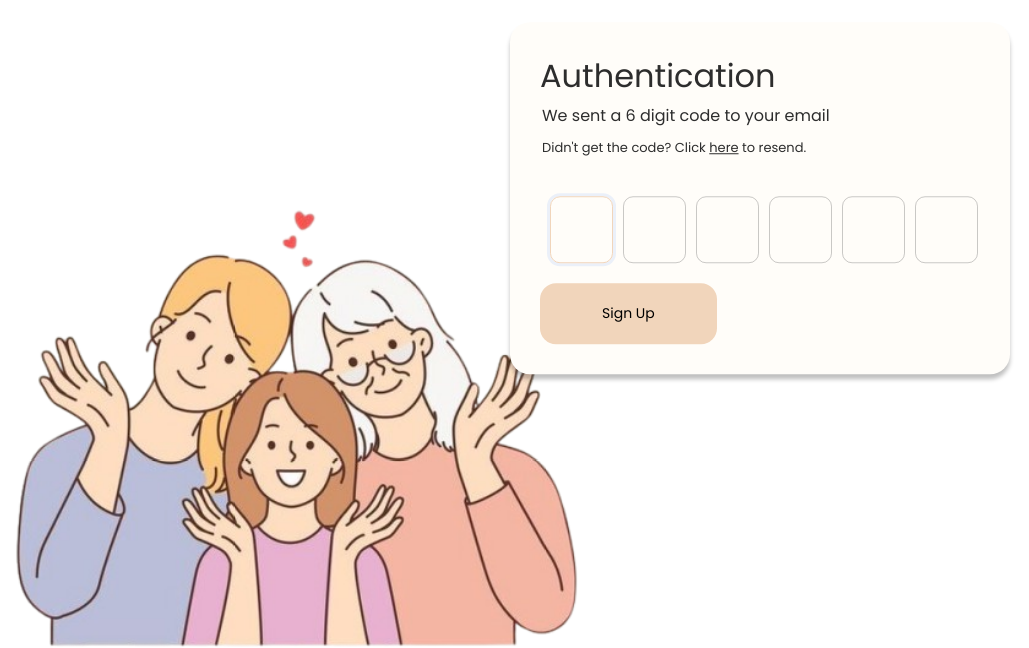
Scenario: Authentication component › displays error message when verification fails
In the 1st field: [582, 229] box [550,196,613,263], type "1"
In the 2nd field: [654, 229] box [623,196,686,263], type "2"
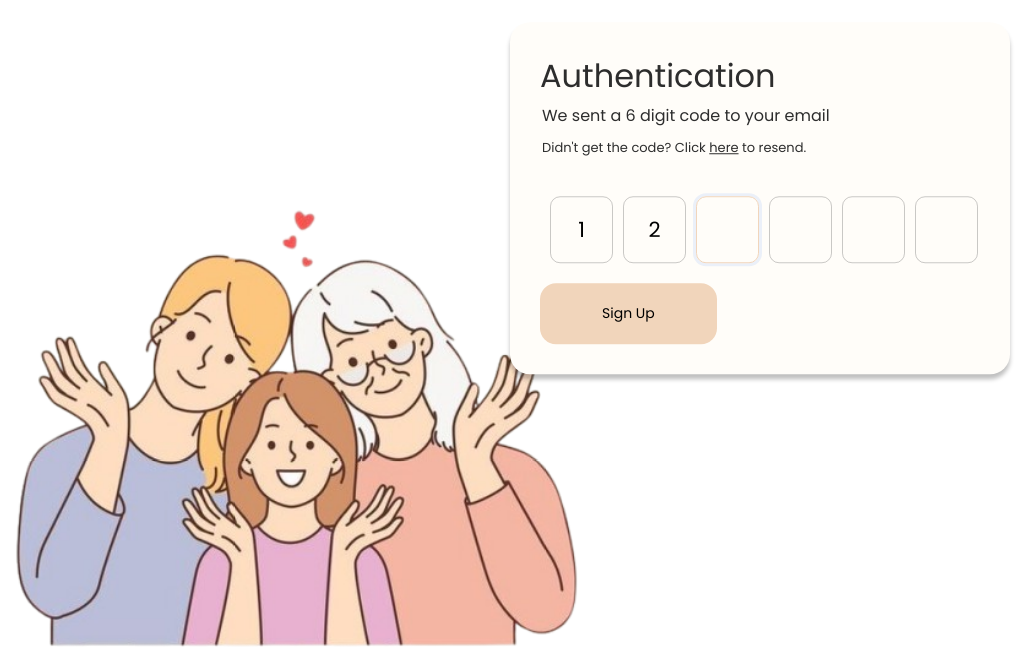
In the 3rd field: [728, 229] box [696,196,759,263], type "3"
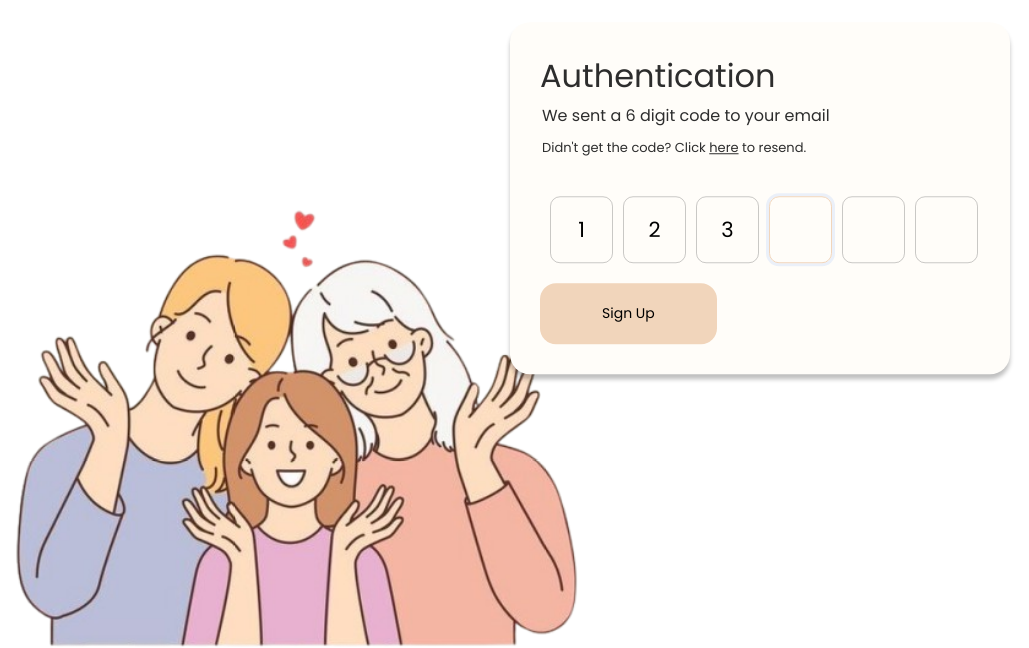
In the 4th field: [800, 229] box [769,196,832,263], type "4"
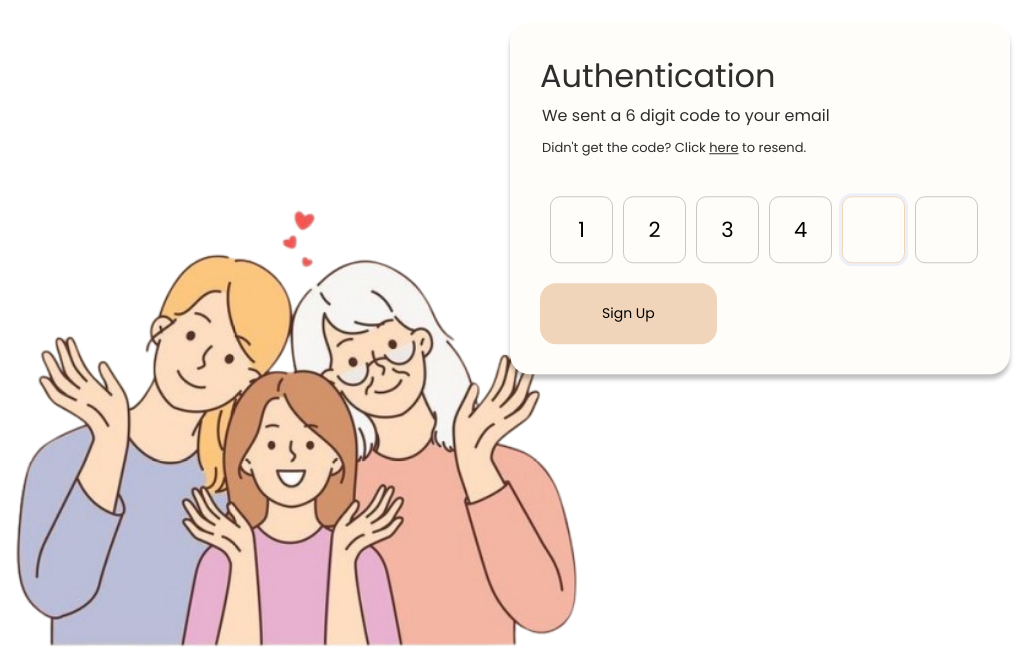
In the 5th field: [874, 229] box [842,196,905,263], type "5"
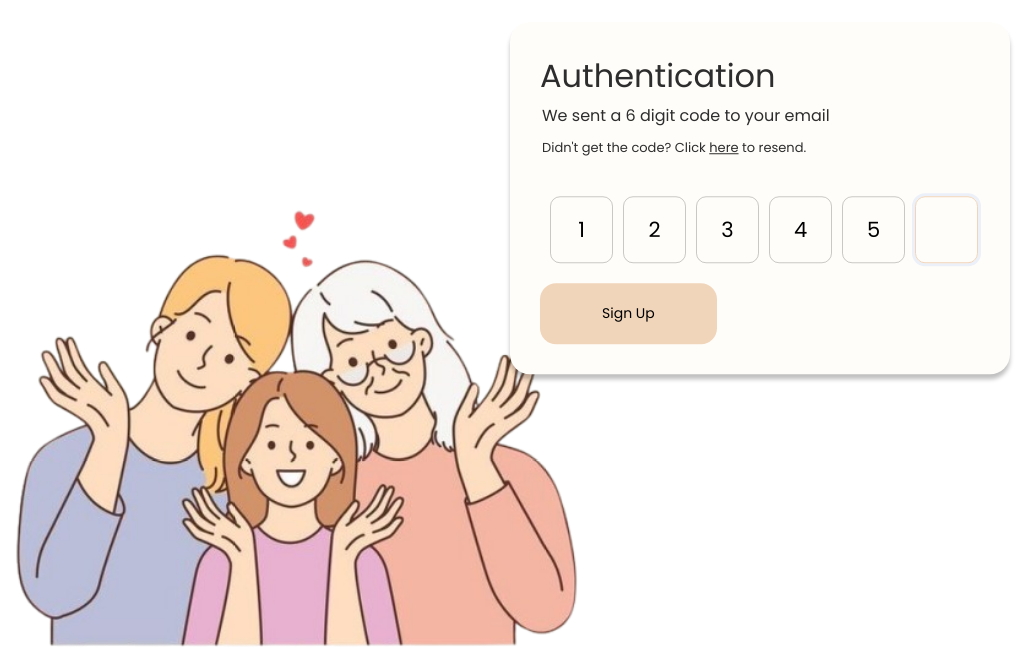
In the 6th field: [946, 229] box [915,196,978,263], type "6"
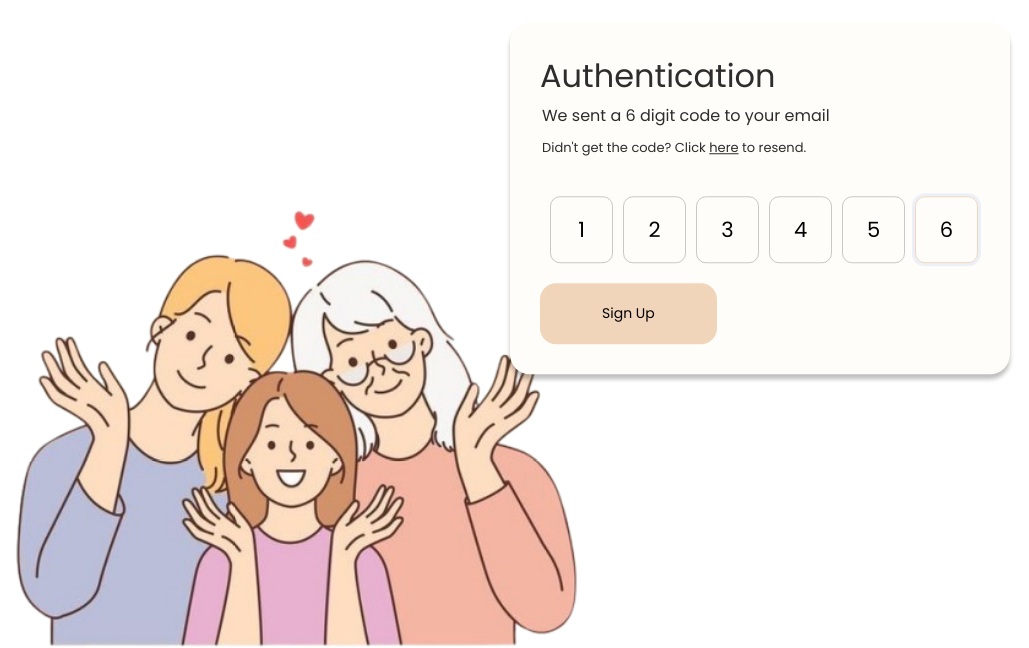
Click the button "Sign Up": [628, 313] box [540,283,717,344]
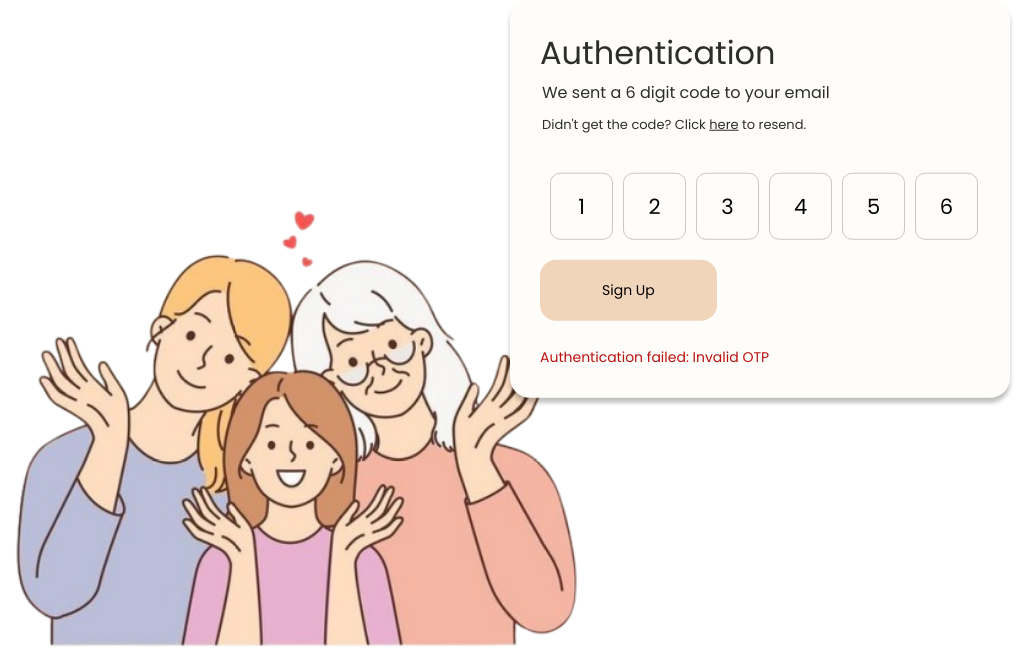
Check: the text "Authentication failed: Invalid OTP" is shown, box [540,346,769,367]
